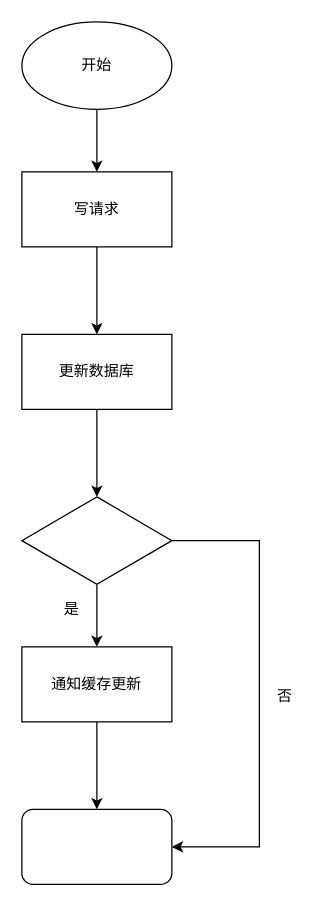
The diagram is 325 pixels wide and 906 high, and some of its shapes have lost their labels. The shapes that lost their labels are listed below. From the top down, each one's centre as x and y in pixels, then its label:
(x=96, y=540): 是否成功
(x=96, y=846): 结束
